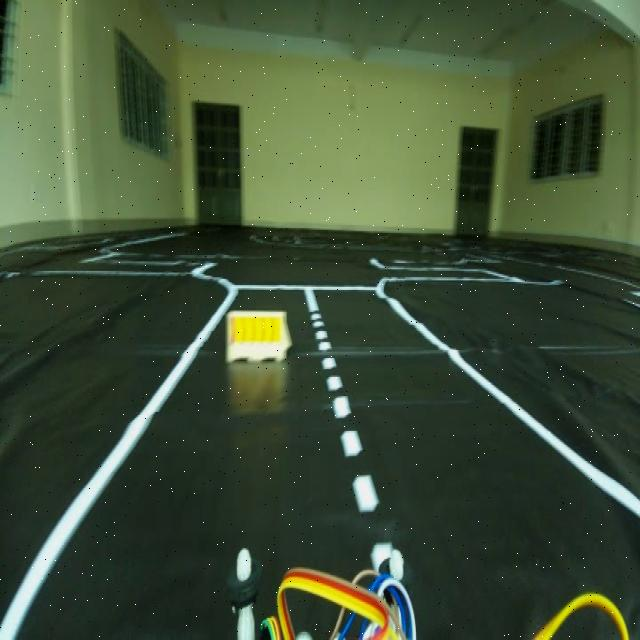roadblock: (225, 299, 295, 376)
